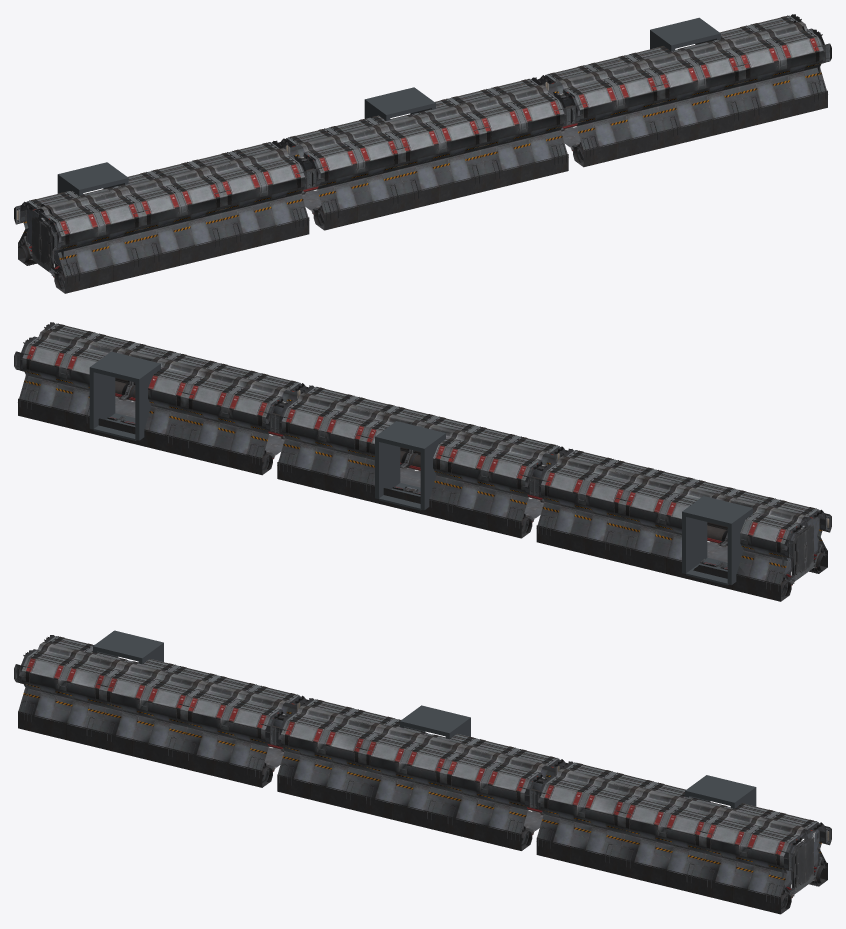
File: hall.glb
3 renders of one model, top to bottom at view 1: azimuth 30°, elevation 25°; view 2: azimuth 150°, elevation 25°; view 3: azimuth 330°, elevation 25°, orthographic.
Parts seen in each view (by area): view 1: HALL; view 2: HALL; view 3: HALL.
Part boxes in pixels (x1=…): HALL: x1=14, y1=14, x2=831, y2=293; HALL: x1=14, y1=322, x2=831, y2=601; HALL: x1=14, y1=630, x2=831, y2=914.
Bounding box in the file's own units: 35.46 × 3.11 × 4.12.
Materials: 12 (11 with a texture image).
